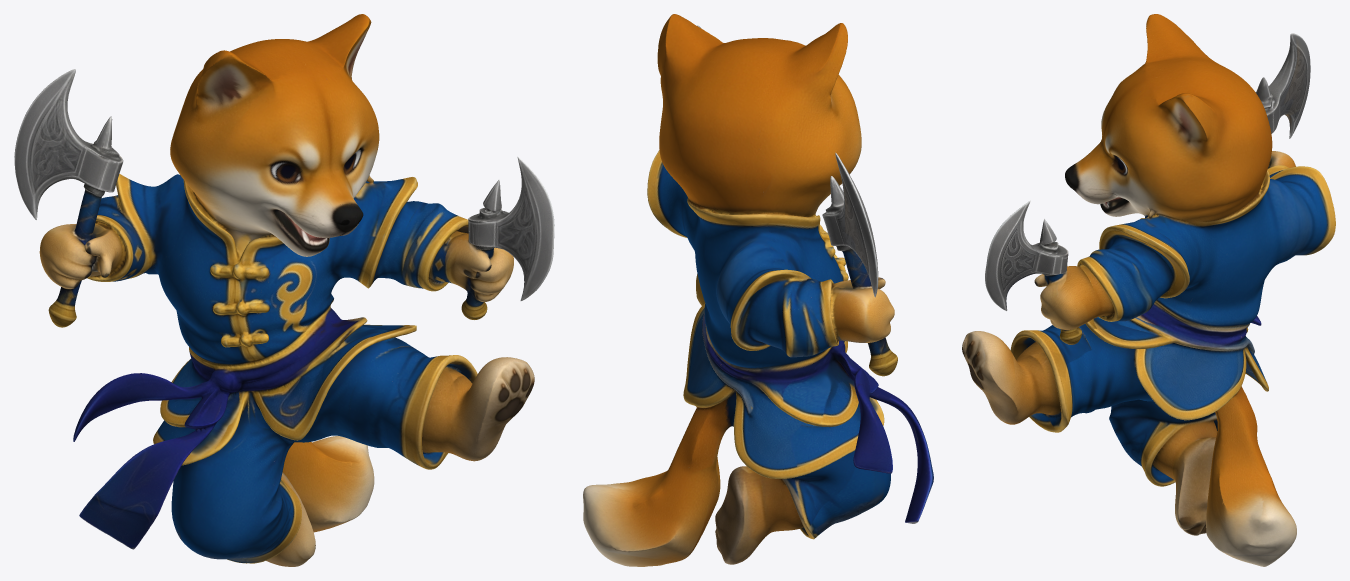
Rendered from Dog-Meshy.glb.
3 renders of one model, left to right at view 1: azimuth 30°, elevation 25°; view 2: azimuth 150°, elevation 25°; view 3: azimuth 270°, elevation 25°, orthographic. The views are drawn at different scales.
Size of the model in its own units: 1.29 by 1.9 by 1.33.
1 material, 1 textured.
